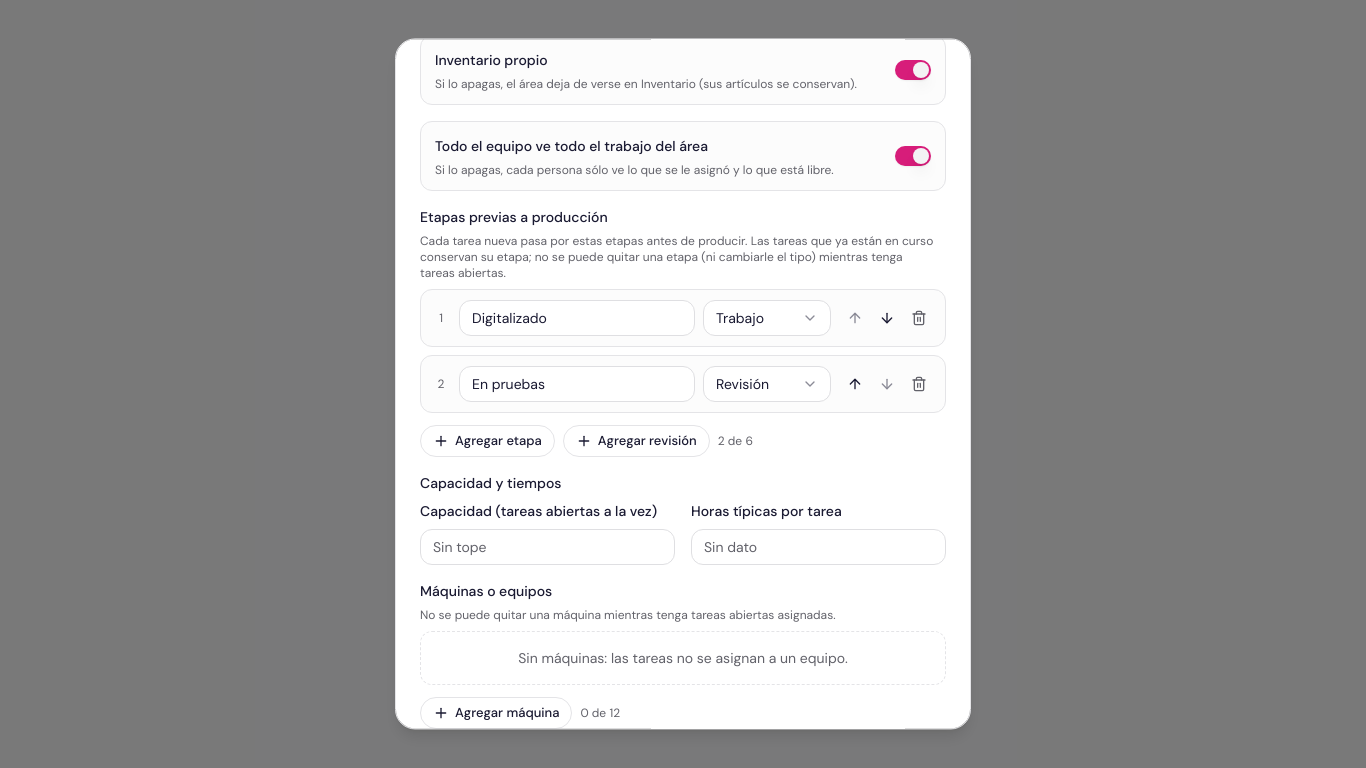
Test: AreaEditDialog › no guarda una lista de etapas que no sirve
(page scrolled)
Step 1. Click the button named "Subir la etapa 2" → point(855, 384), box left=839, top=368, right=871, bottom=400
(page scrolled)
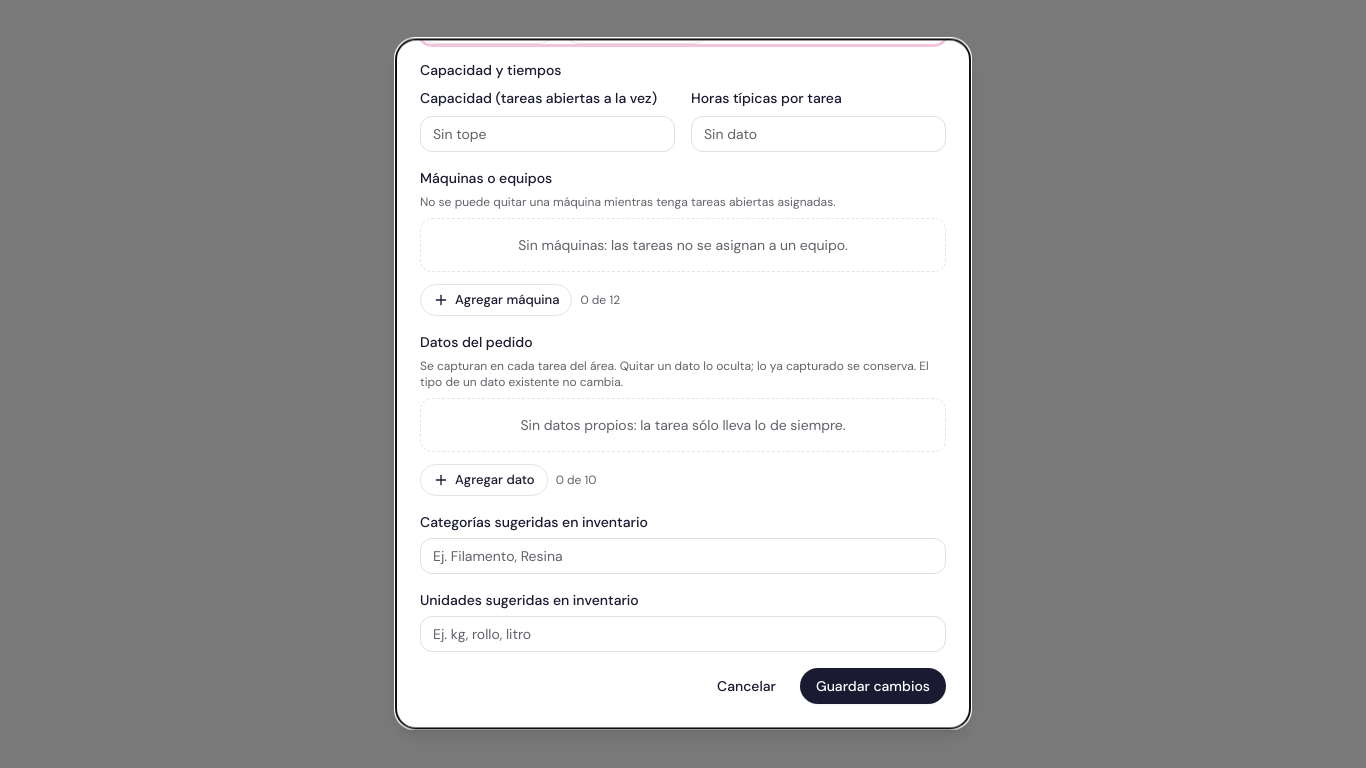
Step 2. Click the button "Guardar cambios" → point(873, 686), box left=800, top=668, right=946, bottom=704
(page scrolled)
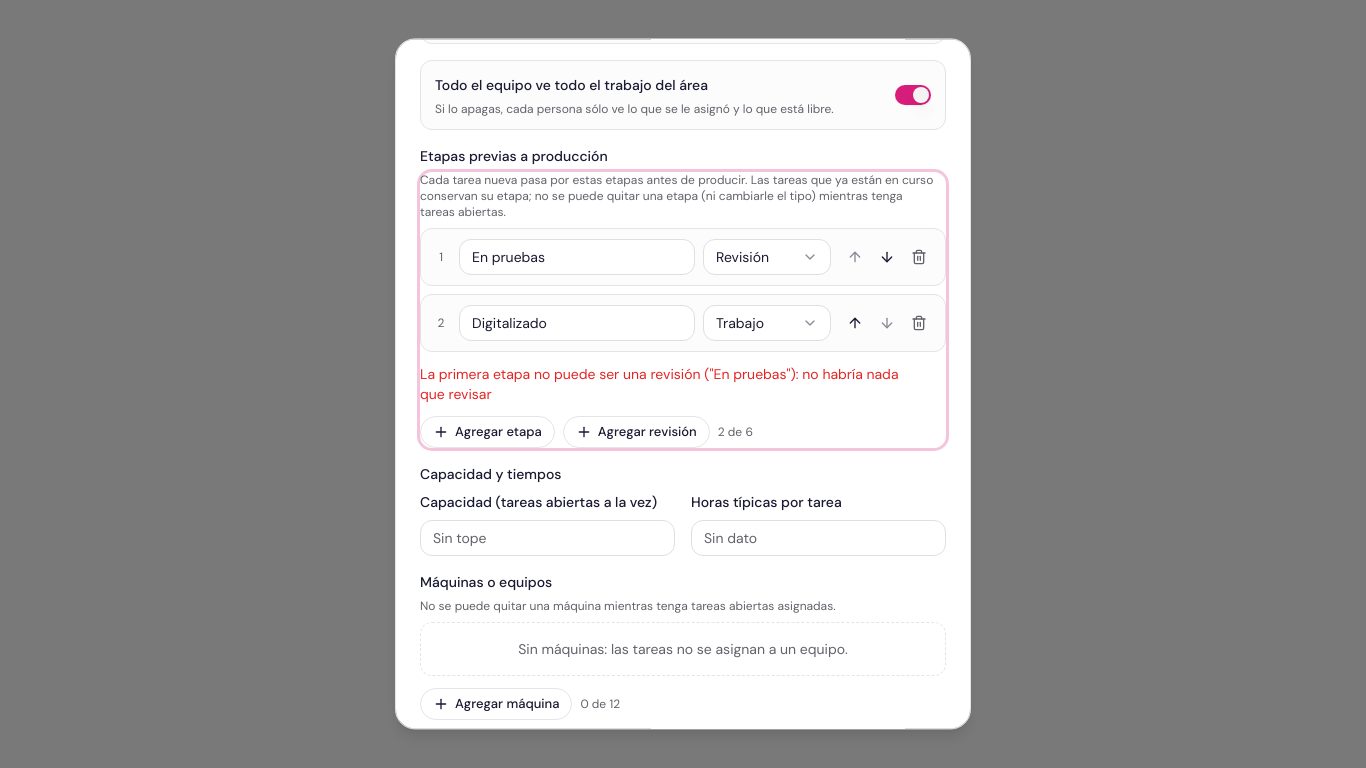
Expected: the text "primera etapa no puede ser una revisión" is shown, left=420, top=365, right=898, bottom=403
